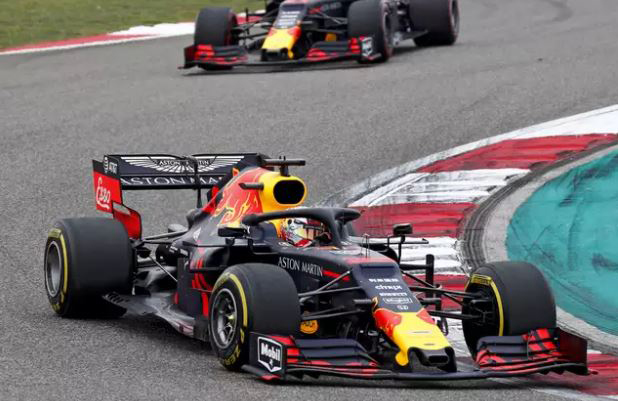F1 Car: (41, 147, 604, 392)
